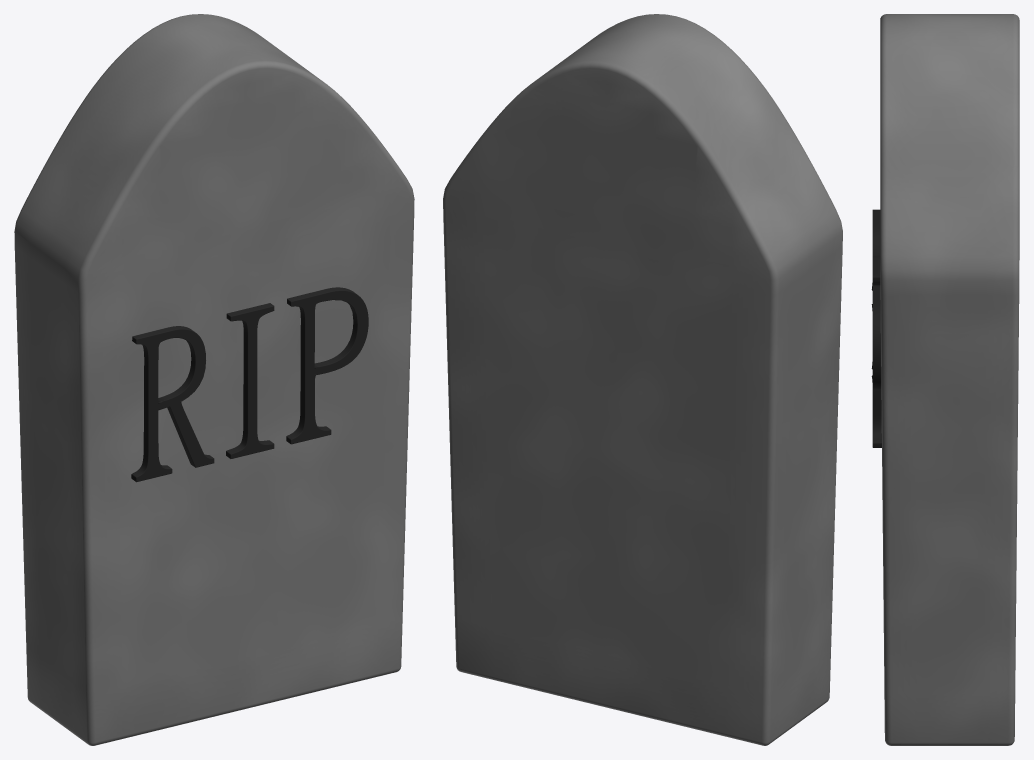
3 views of the same model, side by side, from view 1: azimuth 30°, elevation 25°; view 2: azimuth 150°, elevation 25°; view 3: azimuth 270°, elevation 25° (orthographic).
Parts seen in each view (by area): view 1: obj_grave-yard_5; view 2: obj_grave-yard_5; view 3: obj_grave-yard_5.
Part boxes in pixels (x1,y1,x2,y2): obj_grave-yard_5: (14, 14, 414, 745); obj_grave-yard_5: (443, 14, 842, 745); obj_grave-yard_5: (871, 14, 1019, 745).
Bounding box in the file's own units: 2.19 × 4.05 × 0.838.
Materials: 2 (1 with a texture image).
